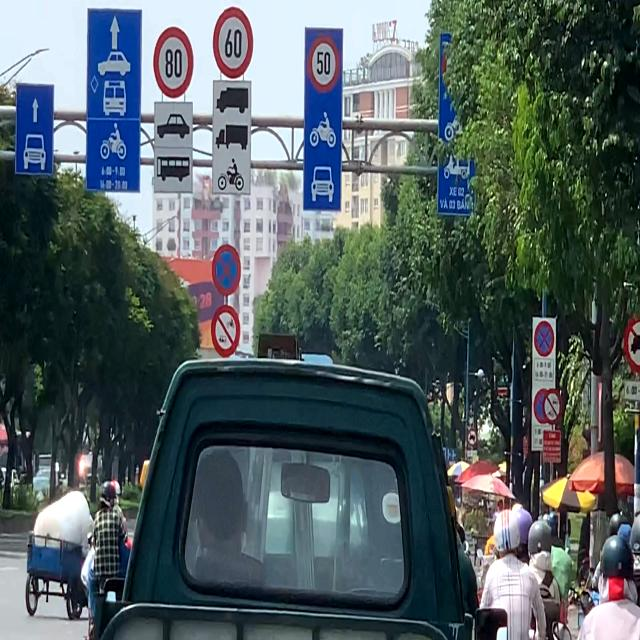P.127: (152, 25, 198, 99), (212, 5, 254, 79), (304, 31, 342, 98)
P.130: (210, 243, 242, 296), (533, 316, 556, 361)
